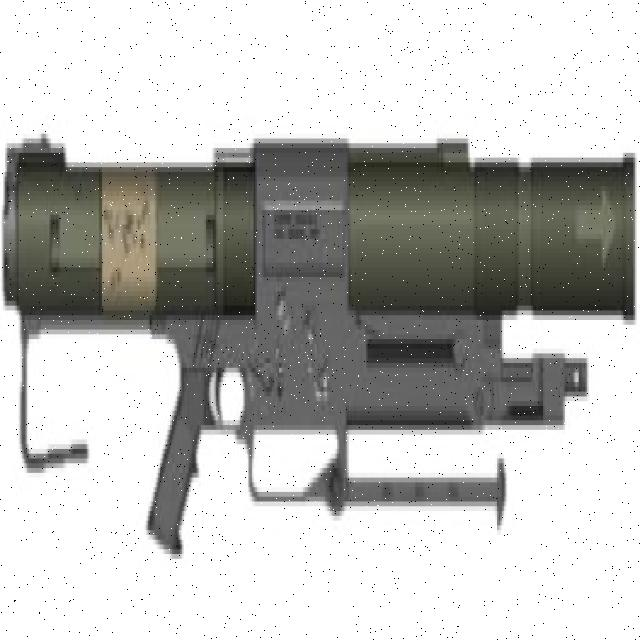bazooka: (1, 110, 640, 561)
